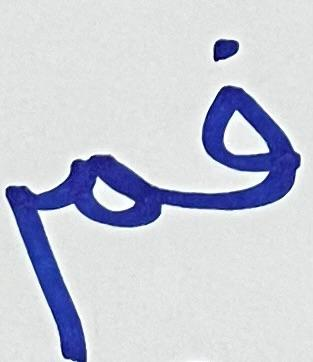meem: (7, 128, 173, 360)
qaf: (175, 29, 303, 219)
